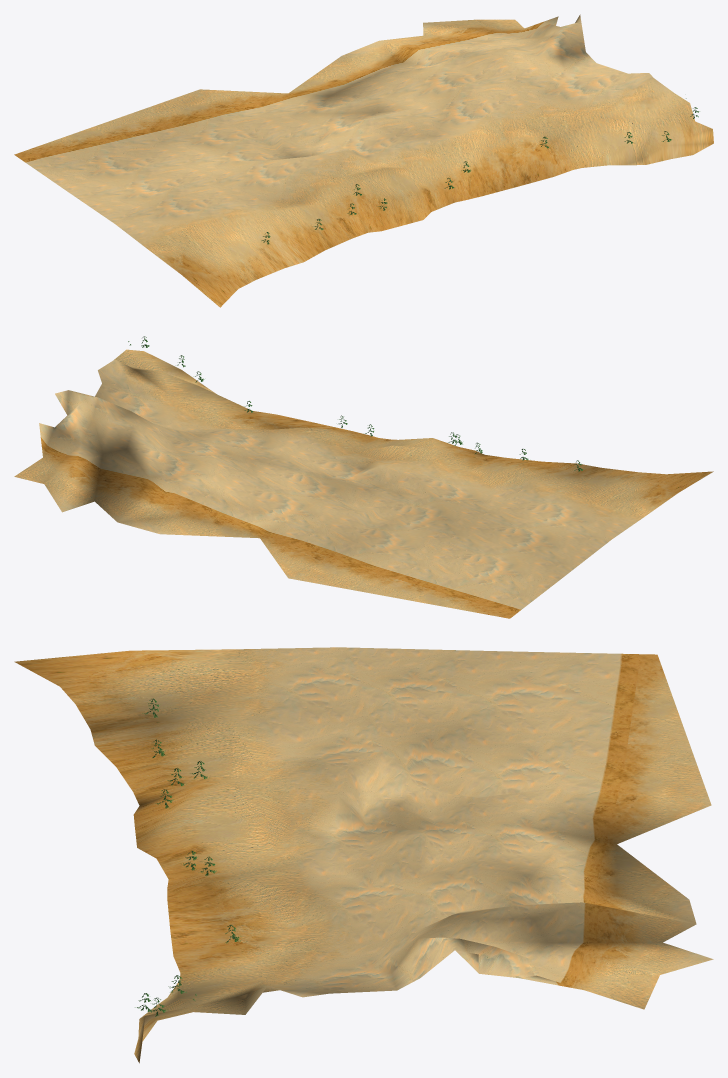
File: snow_island_13.fbx
3 views of the same model, one above another, from view 1: azimuth 30°, elevation 25°; view 2: azimuth 150°, elevation 25°; view 3: azimuth 270°, elevation 25° (orthographic). The views are drawn at different scales.
Visible parts, largest first — view 1: snow_island_13_a; view 2: snow_island_13_a; view 3: snow_island_13_a.
Boxes of the visible parts, x1,y1,x2,y2 form: snow_island_13_a: [14, 14, 713, 307]; snow_island_13_a: [14, 336, 713, 618]; snow_island_13_a: [14, 647, 713, 1063].
Bounding box in the file's own units: 2.36 × 0.2709 × 1.7.
